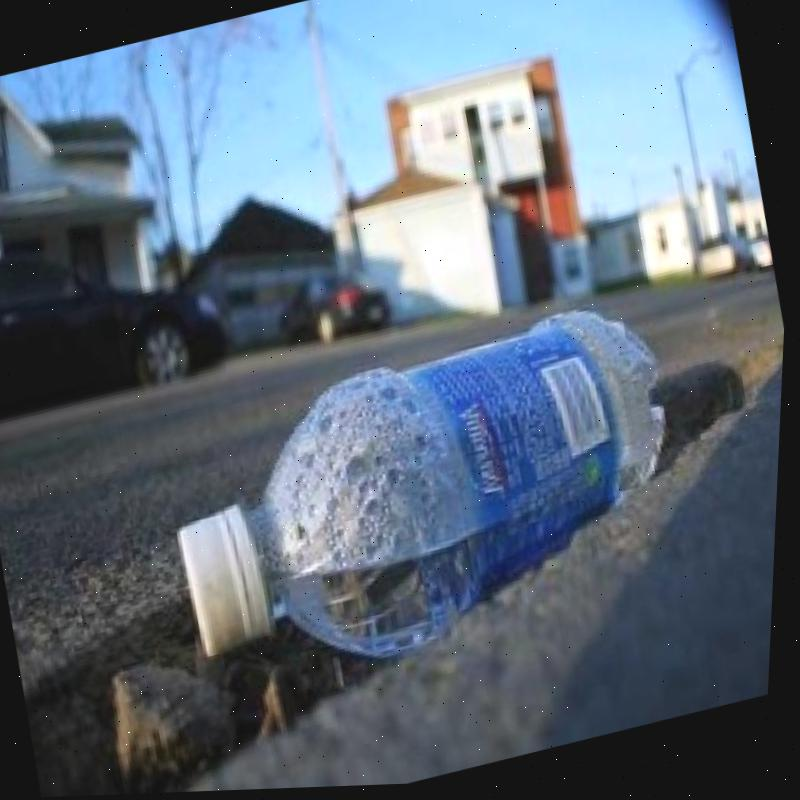botella: (142, 287, 720, 709)
